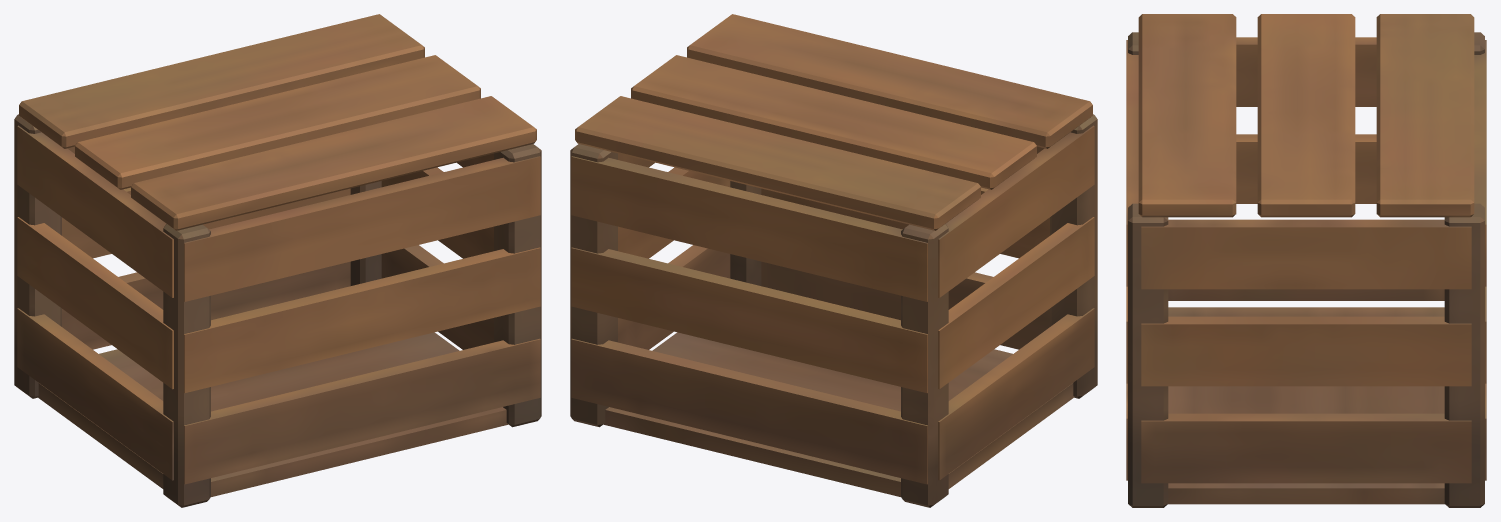
Rendered from crate_wood.glb.
3 renders of one model, left to right at view 1: azimuth 30°, elevation 25°; view 2: azimuth 150°, elevation 25°; view 3: azimuth 270°, elevation 25°, orthographic. The views are drawn at different scales.
Visible parts, largest first — view 1: crate_wood; view 2: crate_wood; view 3: crate_wood.
Part boxes in pixels (x1=…): crate_wood: x1=14, y1=14, x2=541, y2=507; crate_wood: x1=570, y1=14, x2=1097, y2=507; crate_wood: x1=1126, y1=14, x2=1486, y2=507.
Size of the model in its own units: 0.504 by 0.382 by 0.404.
Materials: 2 (2 with a texture image).
